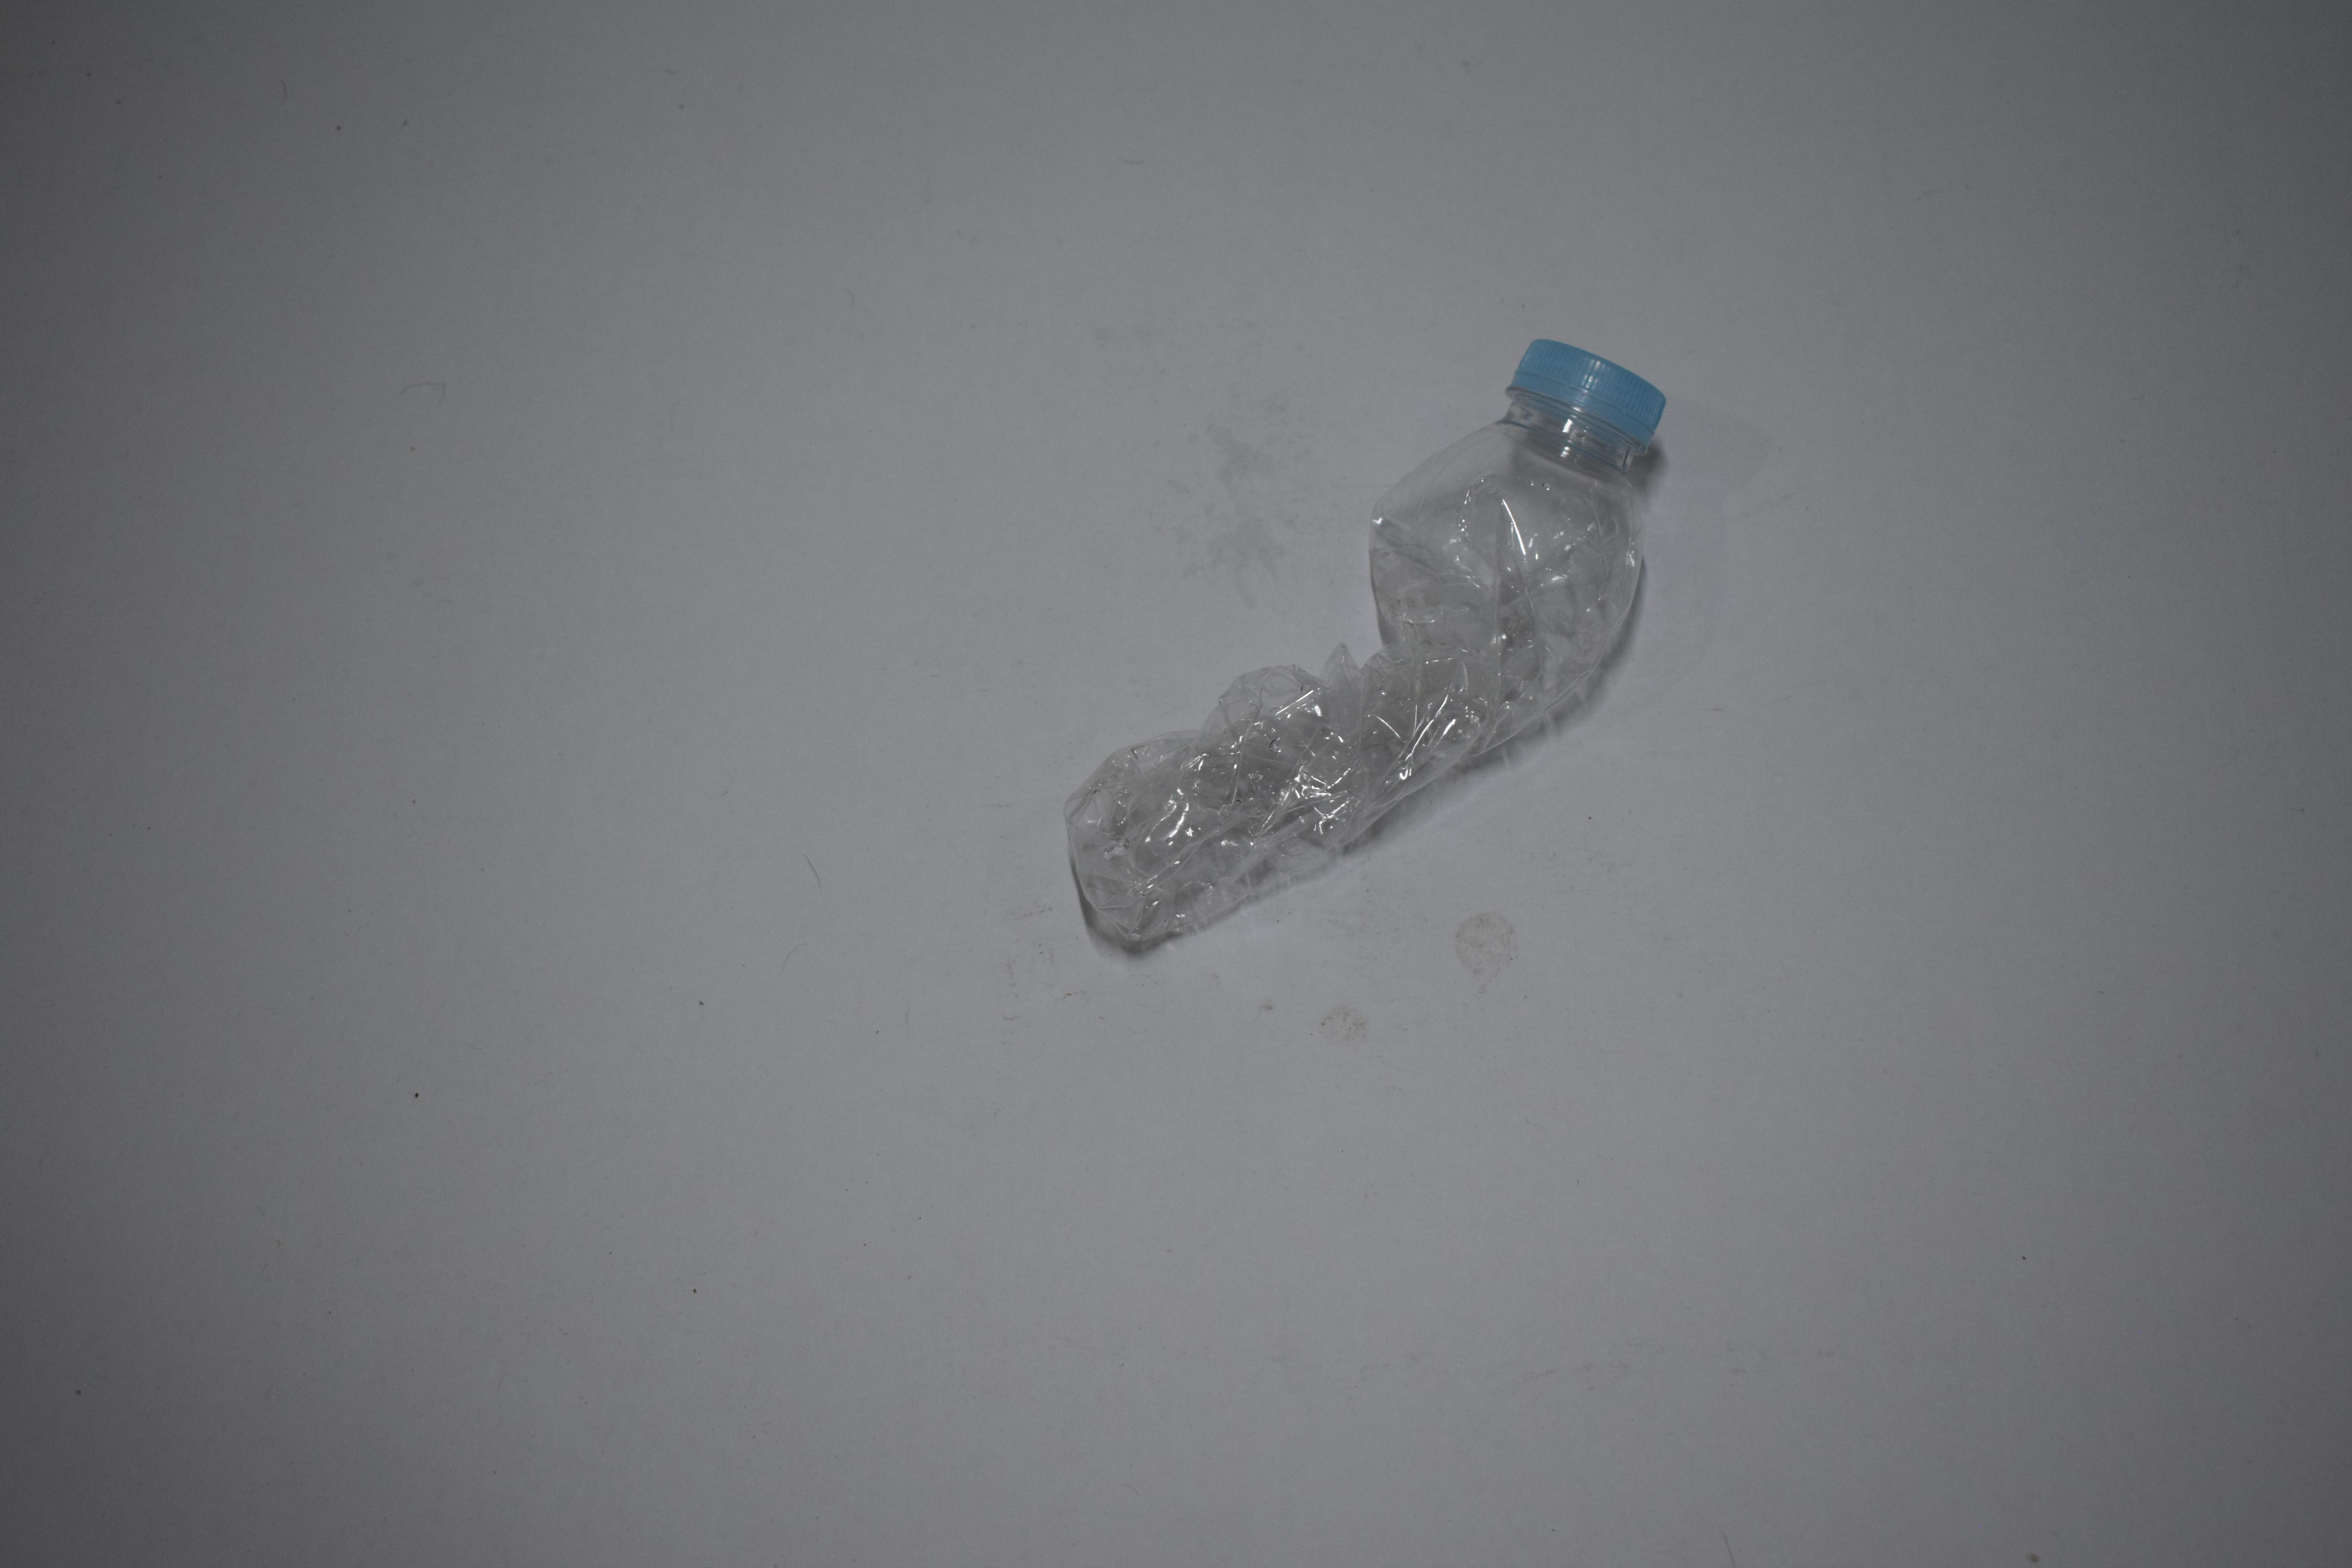bottle: (0, 324, 497, 968)
